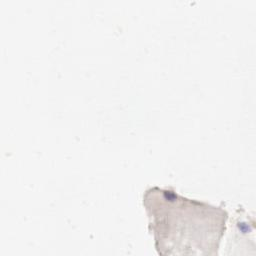nucleus: (237, 221, 253, 235), (164, 189, 177, 202)
